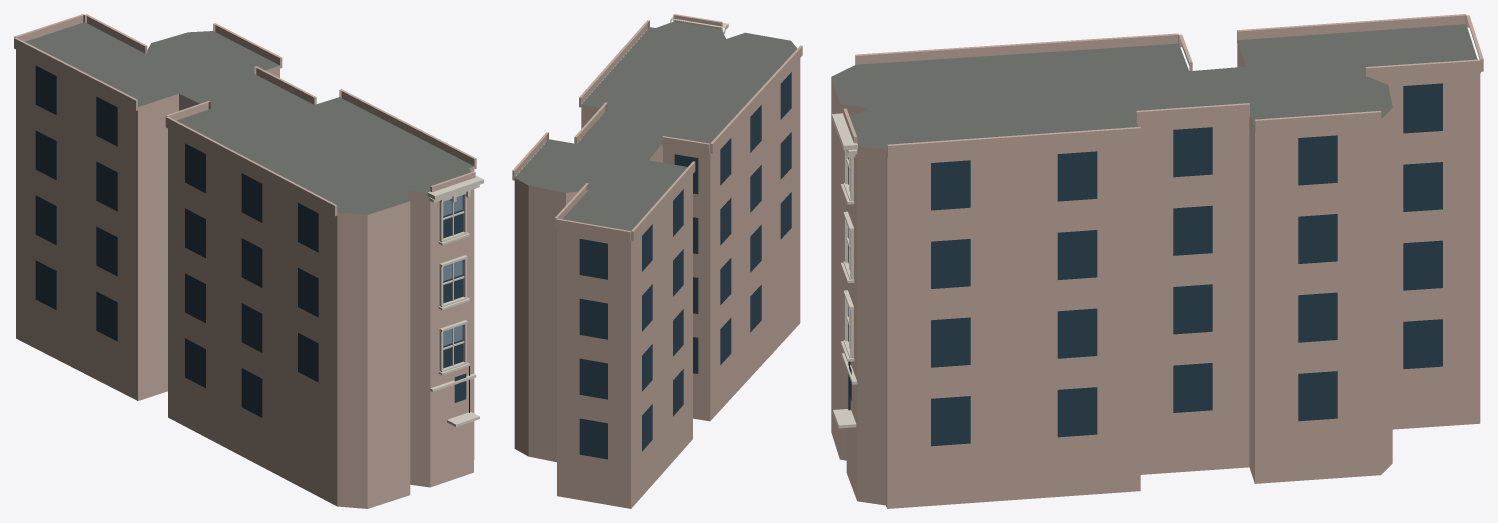
The picture shows the model from 3 angles, left to right: view 1: azimuth 30°, elevation 25°; view 2: azimuth 150°, elevation 25°; view 3: azimuth 270°, elevation 25°; orthographic projection. The views are drawn at different scales.
Parts seen in each view (by area): view 1: Footprint 0 / surface 2, Footprint 0 / surface 1, Inset glazing, Facade bay volumes, Cornices and window frames, Sky reflection panels; view 2: Footprint 0 / surface 2, Footprint 0 / surface 1, Inset glazing, Facade bay volumes; view 3: Footprint 0 / surface 2, Footprint 0 / surface 1, Inset glazing, Facade bay volumes, Cornices and window frames.
Boxes of the visible parts, x1,y1,x2,y2 form: Footprint 0 / surface 2: [16, 49, 474, 508]; Footprint 0 / surface 1: [25, 22, 473, 214]; Inset glazing: [35, 65, 466, 417]; Facade bay volumes: [14, 14, 476, 216]; Cornices and window frames: [427, 175, 483, 426]; Sky reflection panels: [443, 195, 462, 345]; Footprint 0 / surface 2: [514, 58, 800, 508]; Footprint 0 / surface 1: [514, 21, 797, 230]; Inset glazing: [579, 72, 791, 459]; Facade bay volumes: [512, 14, 802, 241]; Footprint 0 / surface 2: [831, 40, 1480, 508]; Footprint 0 / surface 1: [831, 24, 1477, 152]; Inset glazing: [848, 83, 1442, 446]; Facade bay volumes: [843, 14, 1483, 158]; Cornices and window frames: [832, 113, 857, 428].
Size of the model in its own units: 11.33 by 14.58 by 23.66.
